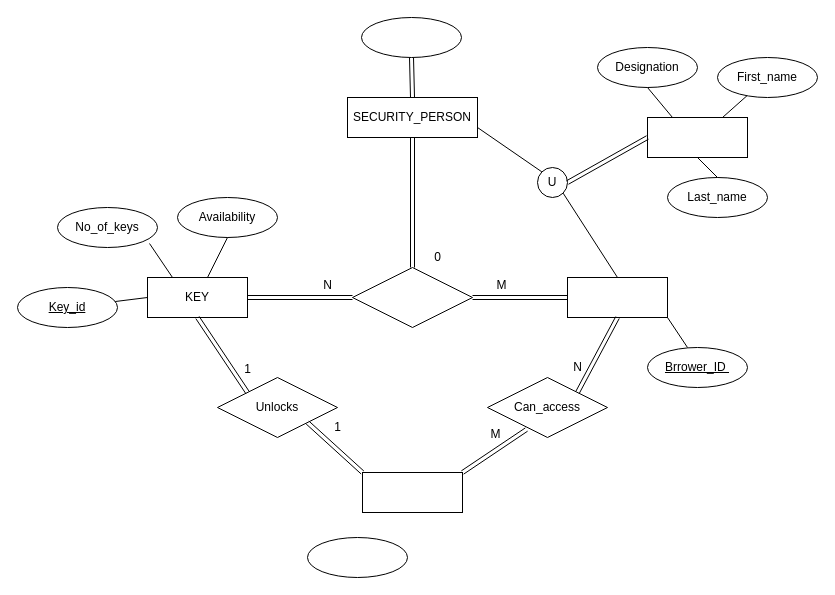
Image size: 835x595. Some labels were removed from this diagram. The shapes that lost their labels are listed below. From the top down, each one's box as (x1, y1, x2, y2) in pixels, then its label:
(360, 16, 462, 58): Security_ID
(646, 116, 748, 158): PERSON
(352, 266, 472, 328): Borrows
(566, 276, 668, 318): BORROWER
(362, 472, 462, 512): BUILDING
(306, 536, 408, 578): Attribute
